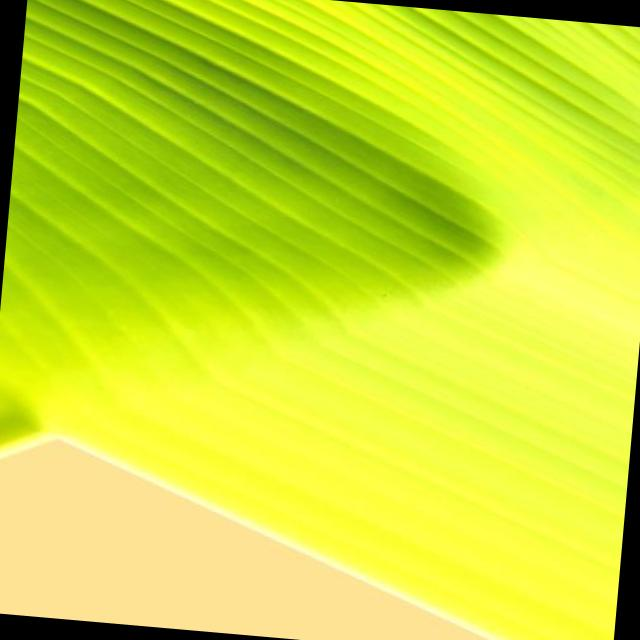Banana_Healthy: (148, 92, 578, 461)
